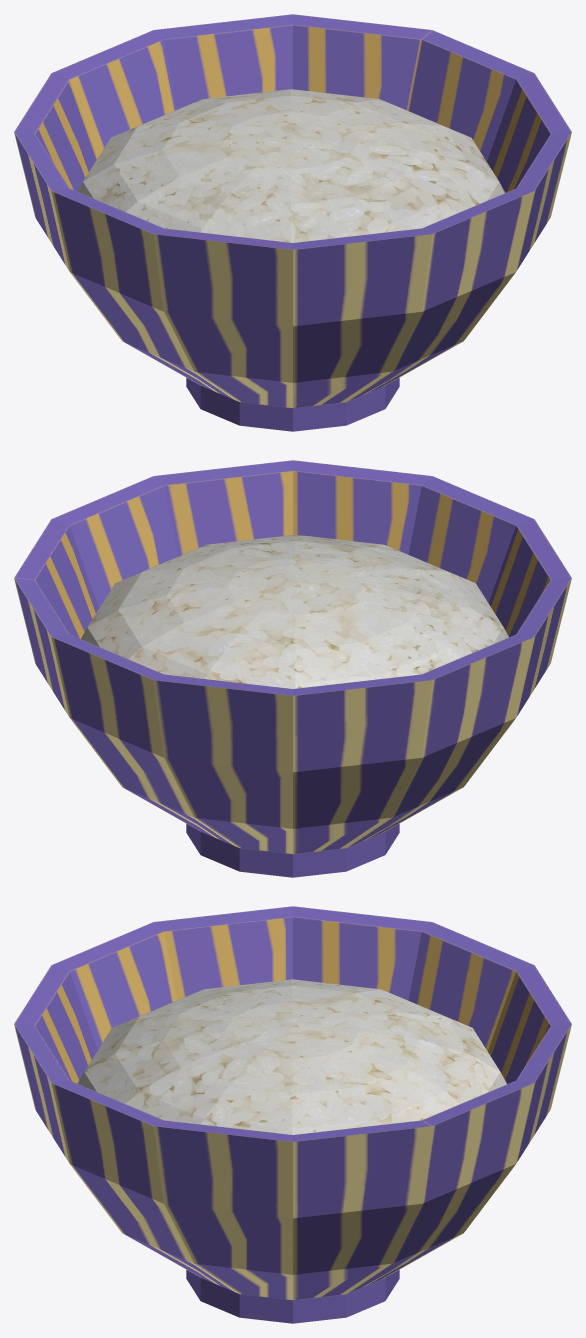
Rendered from don.fbx.
3 renders of one model, top to bottom at view 1: azimuth 30°, elevation 25°; view 2: azimuth 150°, elevation 25°; view 3: azimuth 270°, elevation 25°, orthographic.
Visible parts, largest first — view 1: pSphere1, pSphere2; view 2: pSphere1, pSphere2; view 3: pSphere1, pSphere2.
Part boxes in pixels (left/top/right/bottom): pSphere1: left=14, top=14, right=571, bottom=431; pSphere2: left=77, top=89, right=505, bottom=242; pSphere1: left=14, top=460, right=571, bottom=877; pSphere2: left=81, top=534, right=508, bottom=688; pSphere1: left=14, top=906, right=571, bottom=1323; pSphere2: left=78, top=979, right=506, bottom=1134.
Bounding box in the file's own units: 2 × 1.01 × 2.
2 materials, 2 textured.
